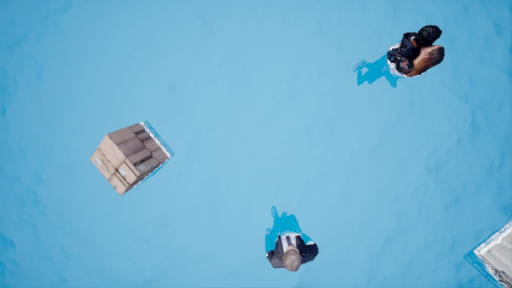person: (358, 28, 446, 97), (259, 209, 320, 272)
